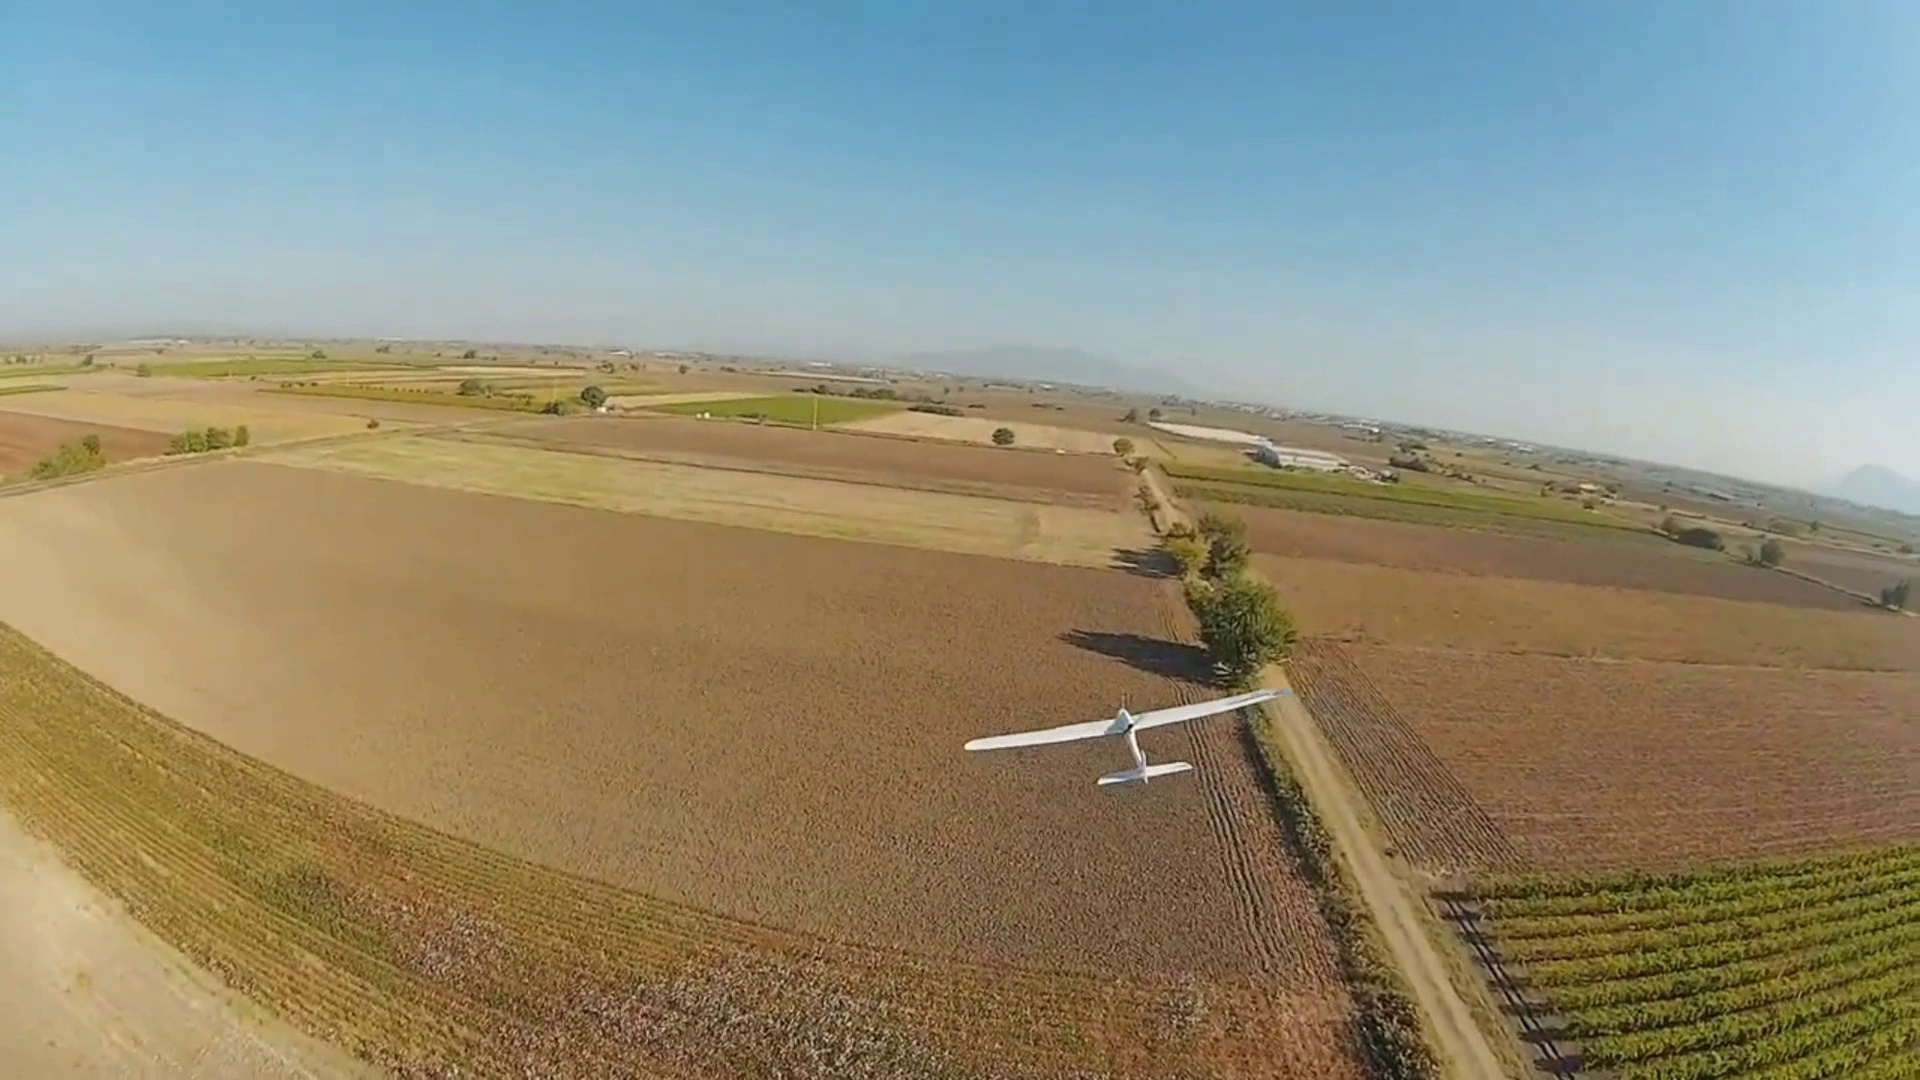airplane: (965, 683, 1284, 790)
